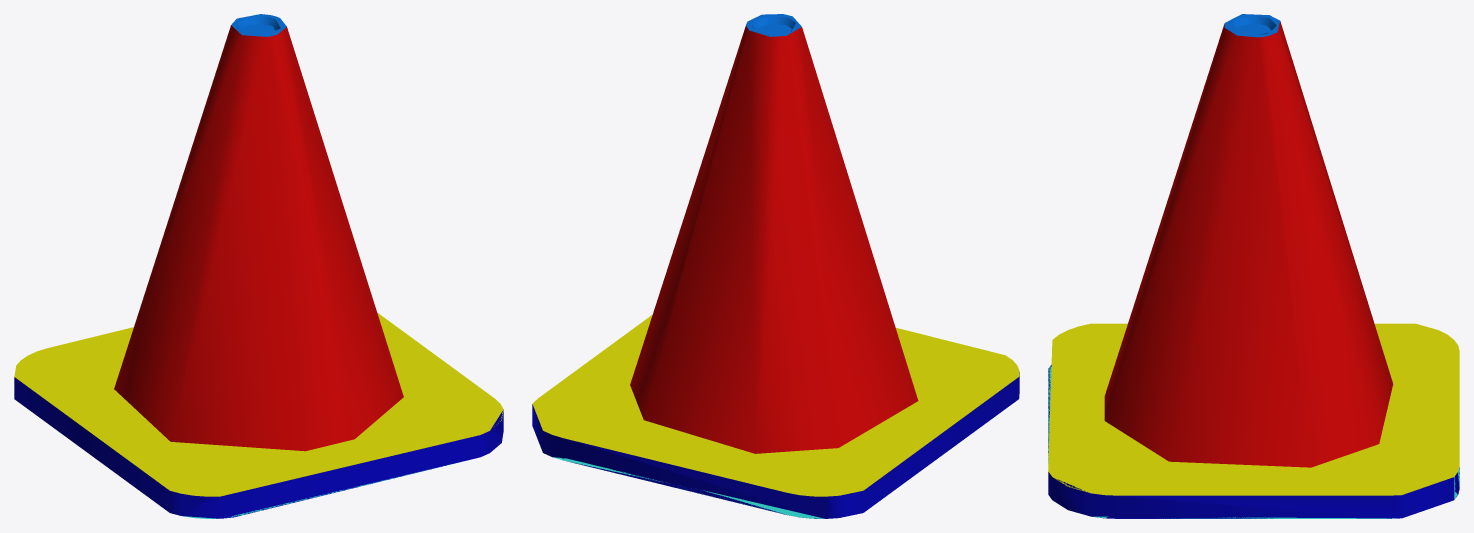
Rendered from CONO.fbx.
3 renders of one model, left to right at view 1: azimuth 30°, elevation 25°; view 2: azimuth 150°, elevation 25°; view 3: azimuth 270°, elevation 25°, orthographic. The views are drawn at different scales.
Visible parts, largest first — view 1: CONO; view 2: CONO; view 3: CONO.
Part boxes in pixels (bbox=[...]): CONO: bbox=[14, 14, 503, 518]; CONO: bbox=[532, 14, 1019, 518]; CONO: bbox=[1048, 14, 1459, 518].
Bounding box in the file's own units: 170 × 187 × 172.
